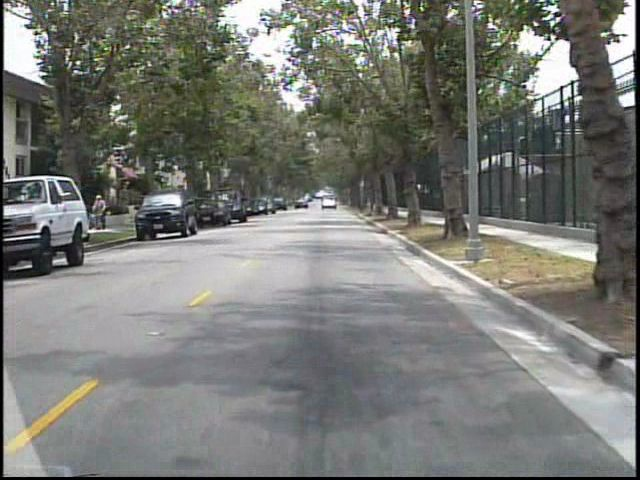person: (95, 193, 114, 234)
